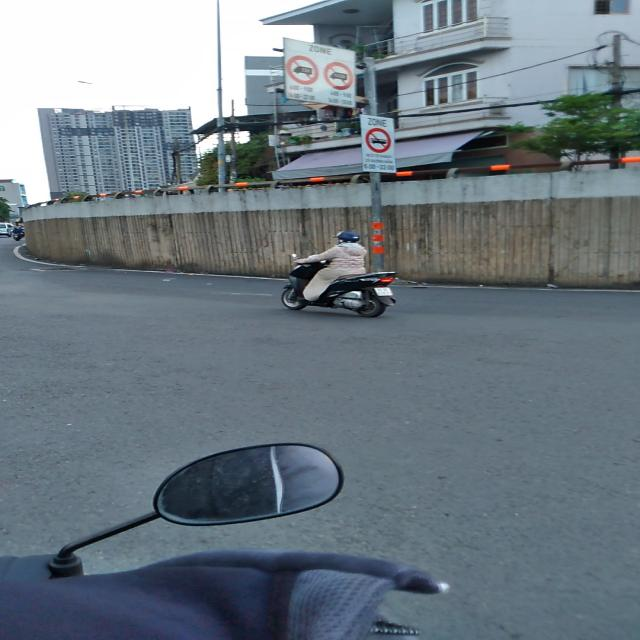Cam con lai: (285, 55, 319, 85), (323, 62, 354, 90), (365, 128, 392, 154)
